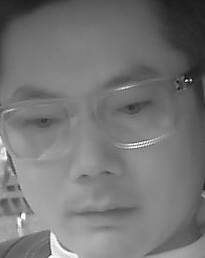eye: (111, 98, 152, 117), (20, 114, 59, 132)
glass: (96, 78, 180, 148), (1, 99, 70, 162)
mouth: (68, 192, 139, 240)
